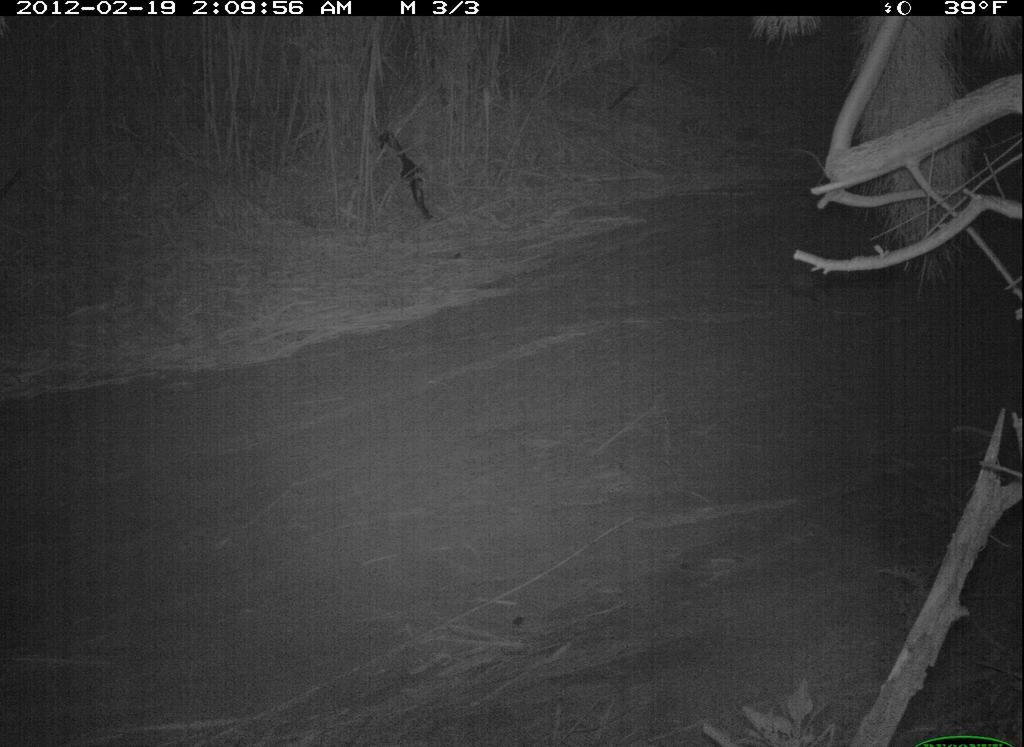opossum: (765, 244, 864, 313)
